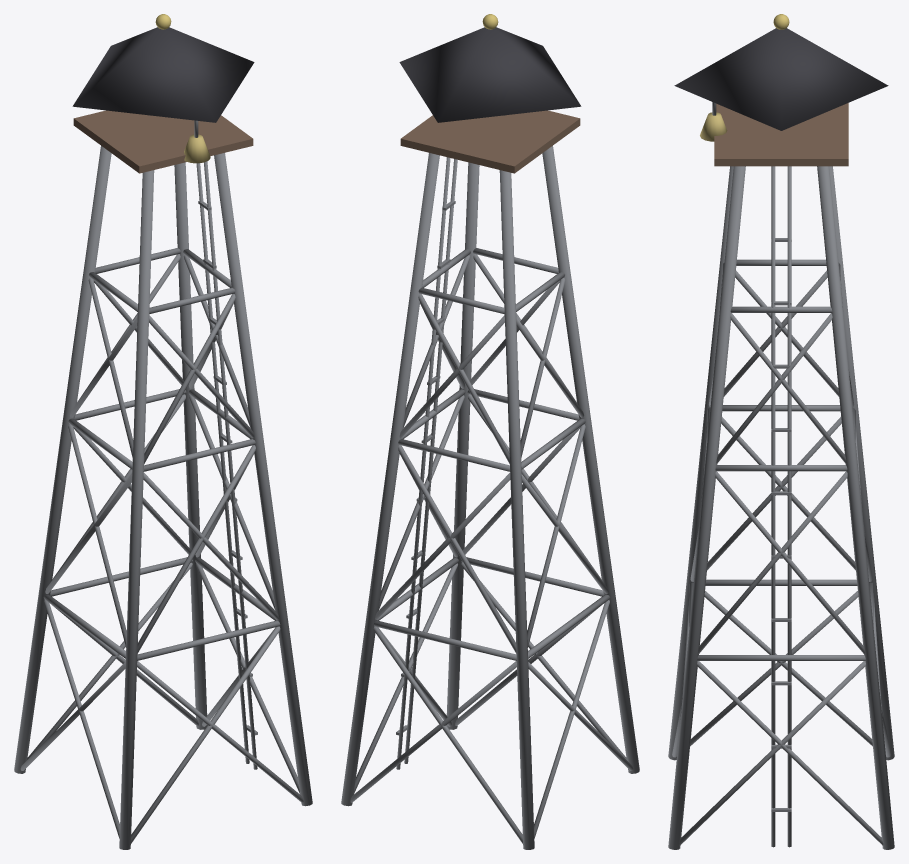
Rendered from prop_hinomi_yagura.glb.
3 renders of one model, left to right at view 1: azimuth 30°, elevation 25°; view 2: azimuth 150°, elevation 25°; view 3: azimuth 270°, elevation 25°, orthographic.
Visible parts, largest first — view 1: hinomi_yagura; view 2: hinomi_yagura; view 3: hinomi_yagura.
Boxes of the visible parts, bbox=[...] form: hinomi_yagura: bbox=[14, 14, 312, 849]; hinomi_yagura: bbox=[341, 14, 639, 849]; hinomi_yagura: bbox=[668, 14, 894, 849].
Size of the model in its own units: 3.38 by 13 by 3.38.
